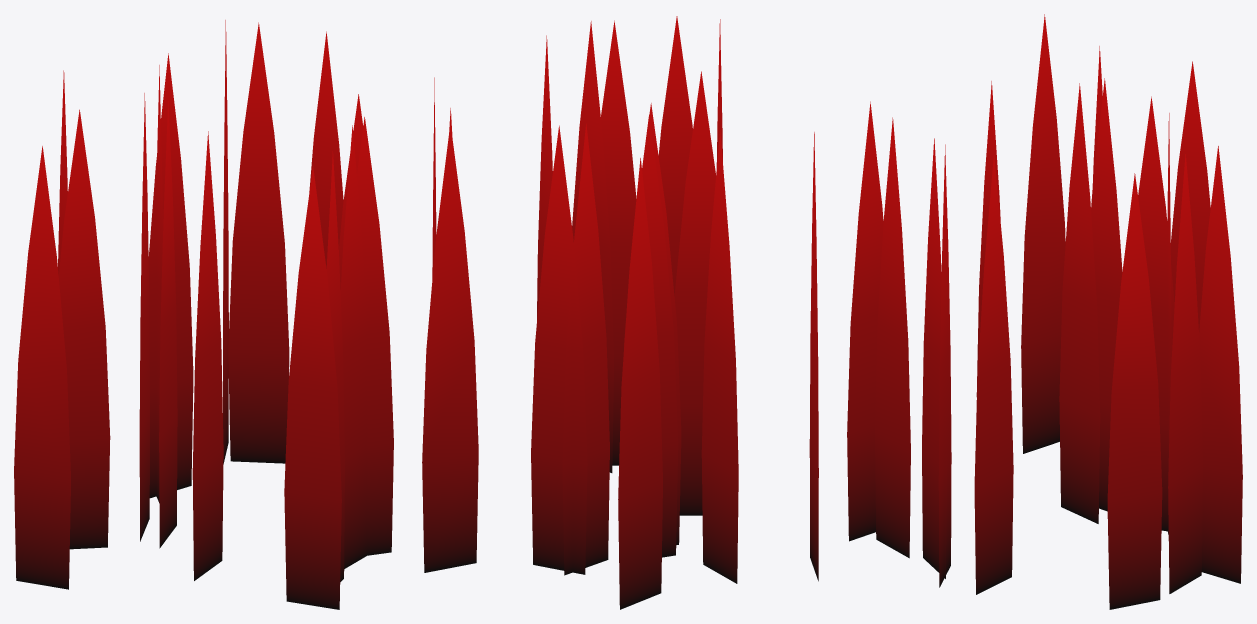
Rendered from grass_high_poly.obj.
3 renders of one model, left to right at view 1: azimuth 30°, elevation 25°; view 2: azimuth 150°, elevation 25°; view 3: azimuth 270°, elevation 25°, orthographic. The views are drawn at different scales.
Visible parts, largest first — view 1: grass_high_poly; view 2: grass_high_poly; view 3: grass_high_poly.
Part boxes in pixels (bbox=[...]): grass_high_poly: bbox=[14, 20, 393, 609]; grass_high_poly: bbox=[422, 16, 818, 609]; grass_high_poly: bbox=[847, 14, 1242, 609].
Size of the model in its own units: 1.7 by 2 by 1.66.
